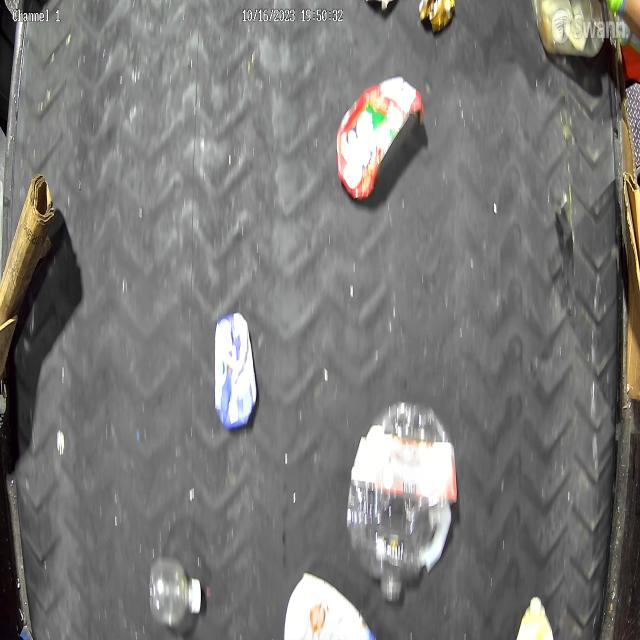plastic_bottle: (344, 405, 457, 598), (144, 547, 202, 632)
